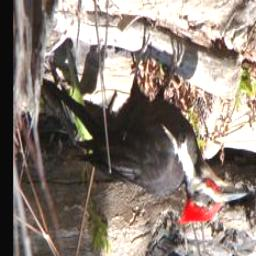Woodpecker: (42, 26, 251, 229)
